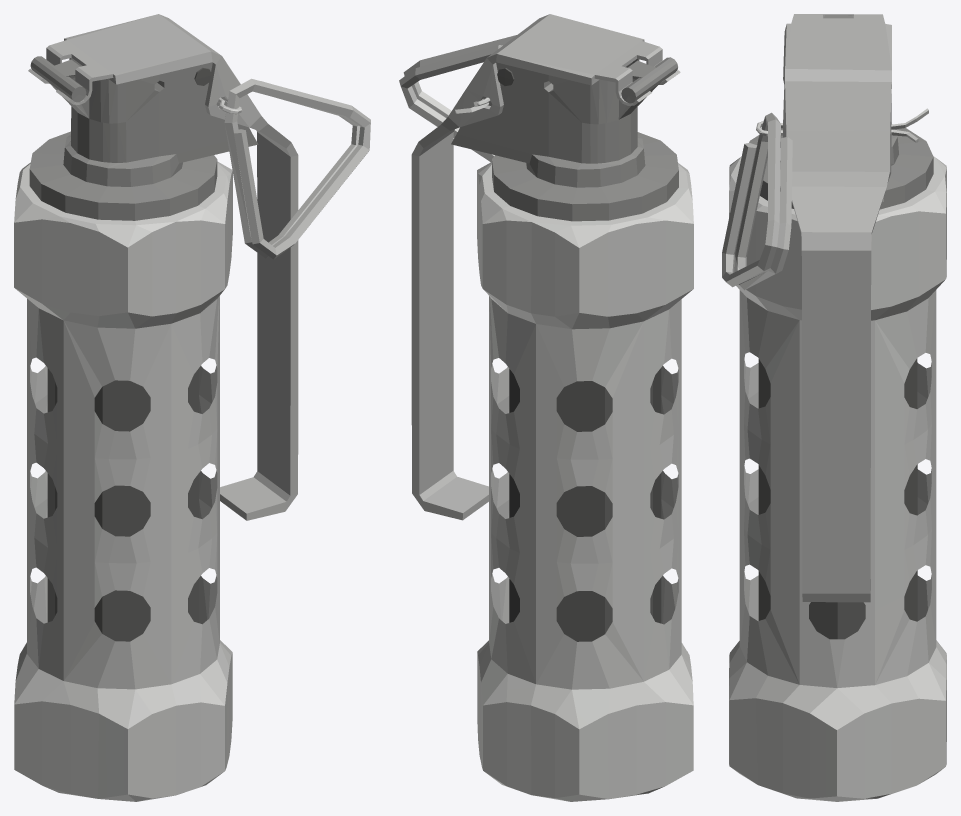
The model's file is SM_Bomb_07.fbx.
3 views of the same model, side by side, from view 1: azimuth 30°, elevation 25°; view 2: azimuth 150°, elevation 25°; view 3: azimuth 270°, elevation 25° (orthographic).
Parts seen in each view (by area): view 1: SM_Bomb_07; view 2: SM_Bomb_07; view 3: SM_Bomb_07.
Boxes of the visible parts, <box> form: SM_Bomb_07: <box>14,14,370,801</box>; SM_Bomb_07: <box>399,14,693,801</box>; SM_Bomb_07: <box>722,14,946,801</box>.
Bounding box in the file's own units: 2.82 × 5.93 × 1.68.
Materials: 1 (1 with a texture image).
